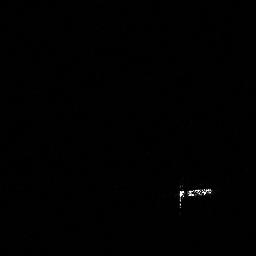ship: (175, 185, 215, 211)
